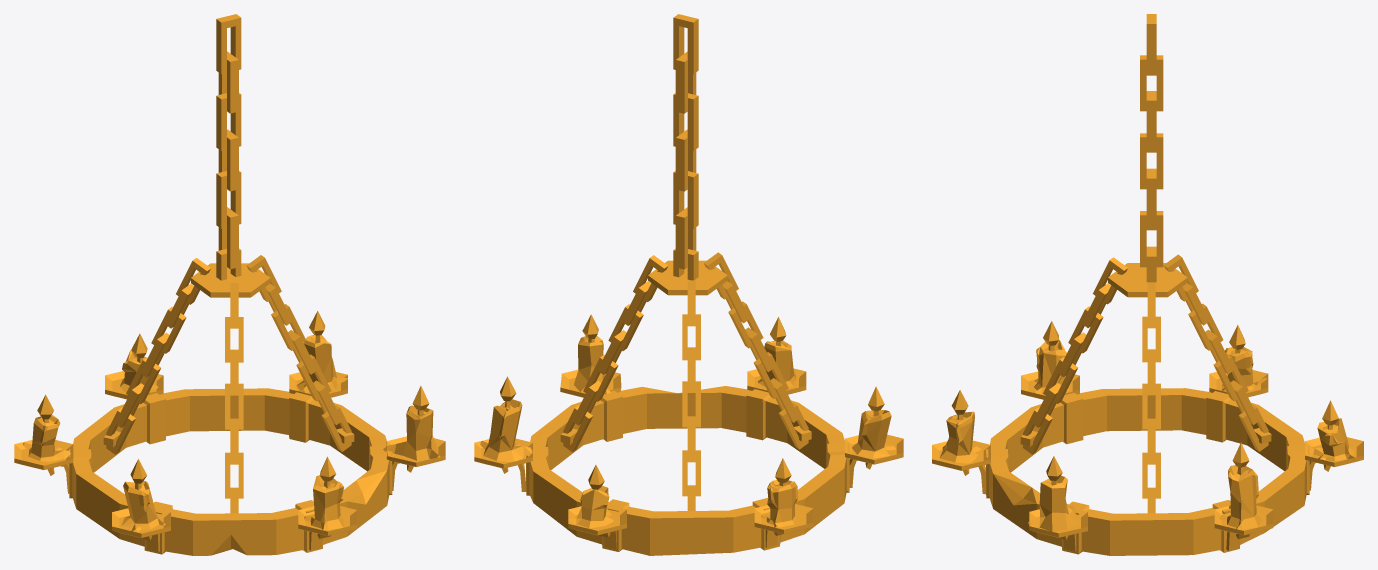
Rendered from SM_Chandelier_Candle_B_Fantasy.fbx.
3 views of the same model, side by side, from view 1: azimuth 30°, elevation 25°; view 2: azimuth 150°, elevation 25°; view 3: azimuth 270°, elevation 25° (orthographic).
Visible parts, largest first — view 1: chandelier-candle-b-fantasy; view 2: chandelier-candle-b-fantasy; view 3: chandelier-candle-b-fantasy.
Part boxes in pixels (x1=…): chandelier-candle-b-fantasy: x1=14, y1=14, x2=445, y2=555; chandelier-candle-b-fantasy: x1=474, y1=14, x2=903, y2=555; chandelier-candle-b-fantasy: x1=932, y1=14, x2=1363, y2=555.
Bounding box in the file's own units: 1.14 × 1.5 × 1.24.
